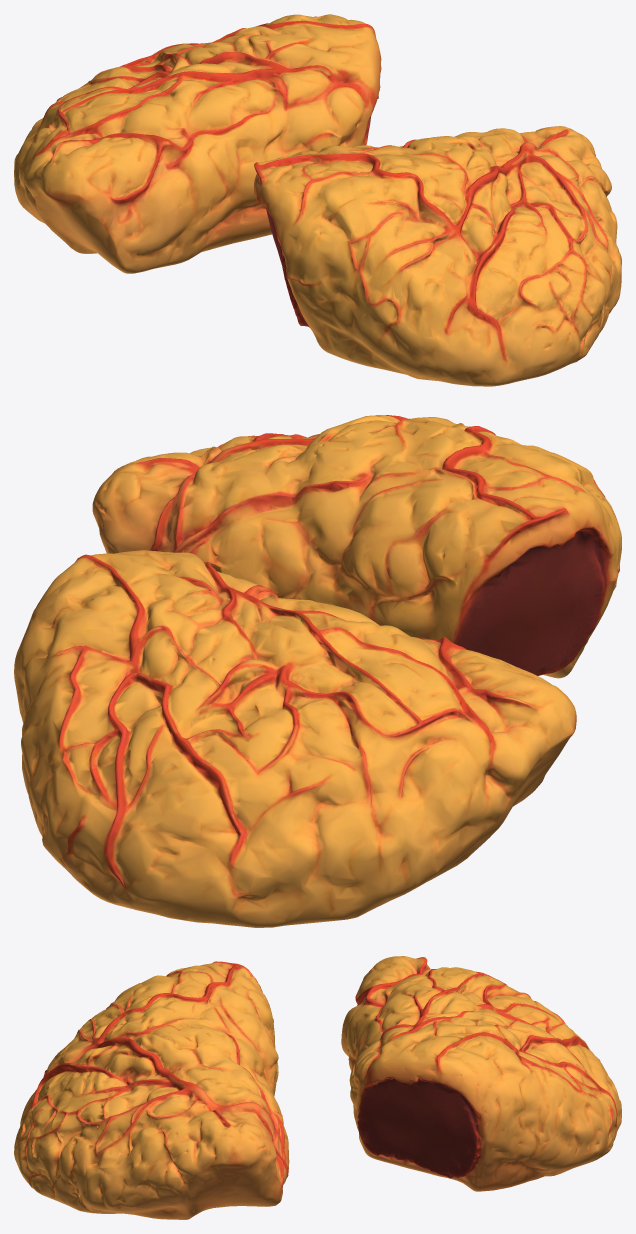
Rendered from adrenal.glb.
3 renders of one model, top to bottom at view 1: azimuth 30°, elevation 25°; view 2: azimuth 150°, elevation 25°; view 3: azimuth 270°, elevation 25°, orthographic. The views are drawn at different scales.
Visible parts, largest first — view 1: tripo_node_3c2179d6-a1c7-4b37-87a2-a5649e3bd416; view 2: tripo_node_3c2179d6-a1c7-4b37-87a2-a5649e3bd416; view 3: tripo_node_3c2179d6-a1c7-4b37-87a2-a5649e3bd416.
Boxes of the visible parts, x1=… form: tripo_node_3c2179d6-a1c7-4b37-87a2-a5649e3bd416: x1=14, y1=14, x2=621, y2=386; tripo_node_3c2179d6-a1c7-4b37-87a2-a5649e3bd416: x1=14, y1=415, x2=621, y2=927; tripo_node_3c2179d6-a1c7-4b37-87a2-a5649e3bd416: x1=14, y1=956, x2=621, y2=1219.
Size of the model in its own units: 0.7417 by 0.2786 by 0.9999.
Materials: 1 (1 with a texture image).
